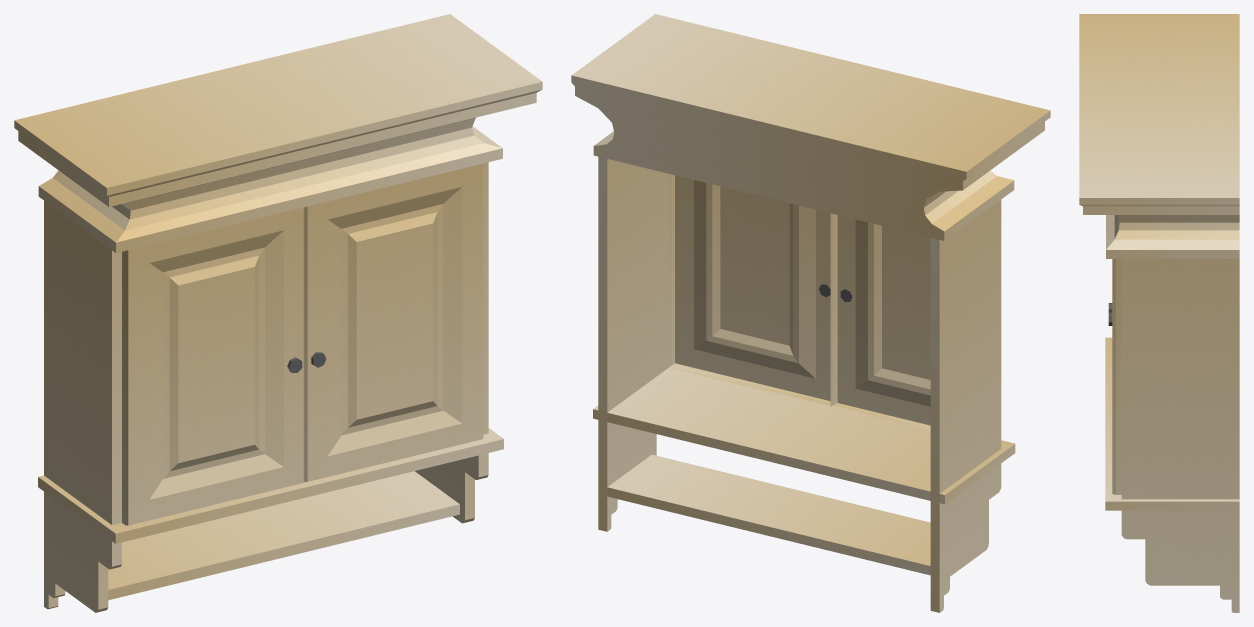
Rendered from SM_Guizi_02.fbx.
3 views of the same model, side by side, from view 1: azimuth 30°, elevation 25°; view 2: azimuth 150°, elevation 25°; view 3: azimuth 270°, elevation 25° (orthographic). The views are drawn at different scales.
Visible parts, largest first — view 1: SM_Guizi_02; view 2: SM_Guizi_02; view 3: SM_Guizi_02.
Part boxes in pixels (x1,y1,x2,y2): SM_Guizi_02: (14, 14, 542, 612); SM_Guizi_02: (571, 14, 1050, 612); SM_Guizi_02: (1079, 14, 1239, 612).
Bounding box in the file's own units: 111 × 120 × 40.78.
